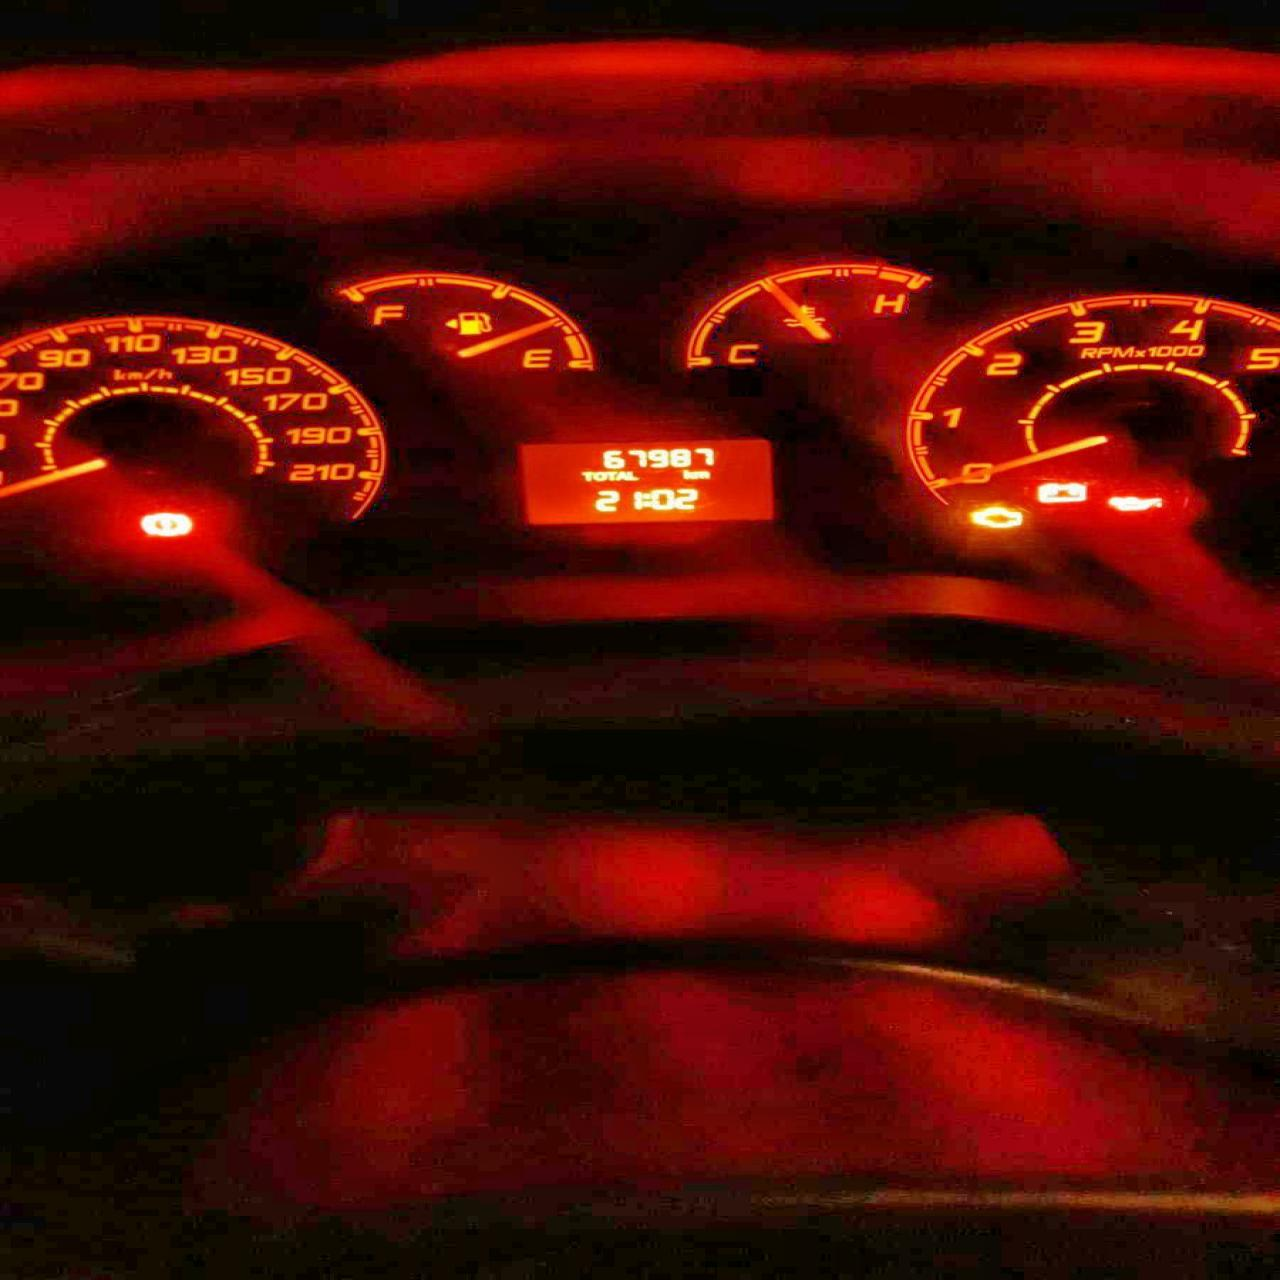0: (648, 488, 674, 510)
1: (628, 488, 641, 511)
2: (594, 488, 620, 511), (674, 486, 697, 511)
6: (599, 448, 625, 467)
7: (627, 448, 647, 467), (694, 447, 714, 465)
8: (669, 448, 692, 467)
9: (647, 447, 669, 467)
X: (694, 470, 712, 481), (626, 470, 640, 482), (681, 468, 694, 479), (641, 490, 648, 510), (593, 470, 606, 481), (580, 470, 592, 481), (606, 470, 617, 481), (617, 470, 626, 481)
odometer: (515, 436, 782, 526)
